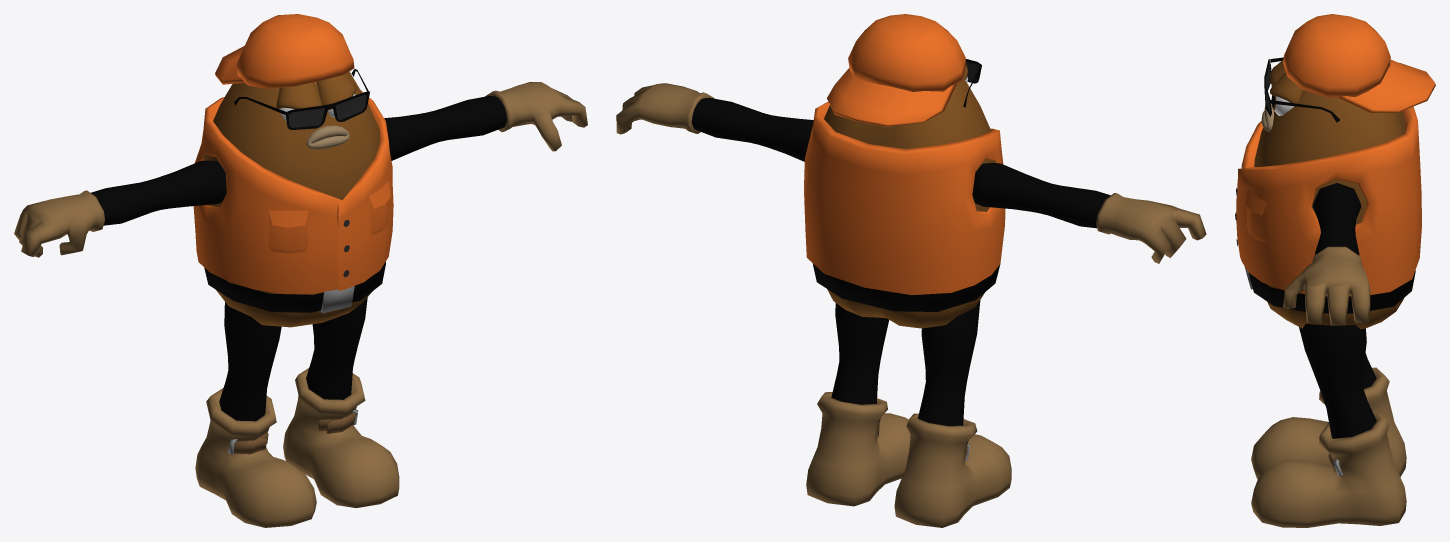
File: quilkes.glb
The picture shows the model from 3 angles, left to right: view 1: azimuth 30°, elevation 25°; view 2: azimuth 150°, elevation 25°; view 3: azimuth 270°, elevation 25°; orthographic projection.
Parts seen in each view (by area): view 1: Object_2; view 2: Object_2; view 3: Object_2.
Boxes of the visible parts, x1,y1,x2,y2 form: Object_2: (14,14,587,527); Object_2: (616,14,1206,527); Object_2: (1235,14,1435,527).
Bounding box in the file's own units: 2.21 × 1.74 × 0.6783.
Materials: 1 (1 with a texture image).
